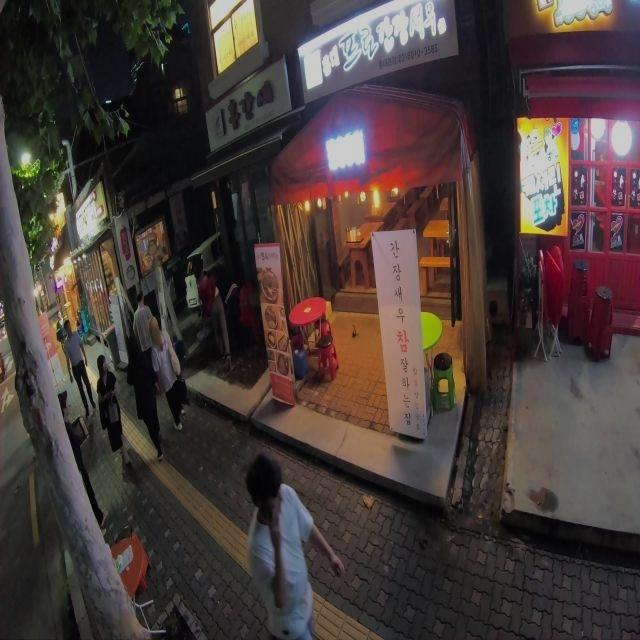non-fight: (243, 453, 348, 639), (126, 337, 166, 462), (96, 354, 128, 477), (62, 320, 96, 416)
